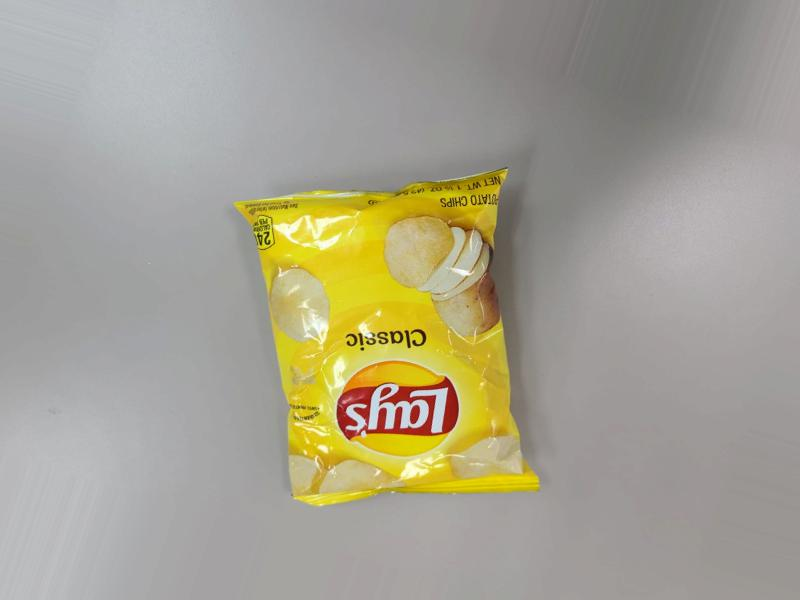lays: (242, 159, 536, 511)
